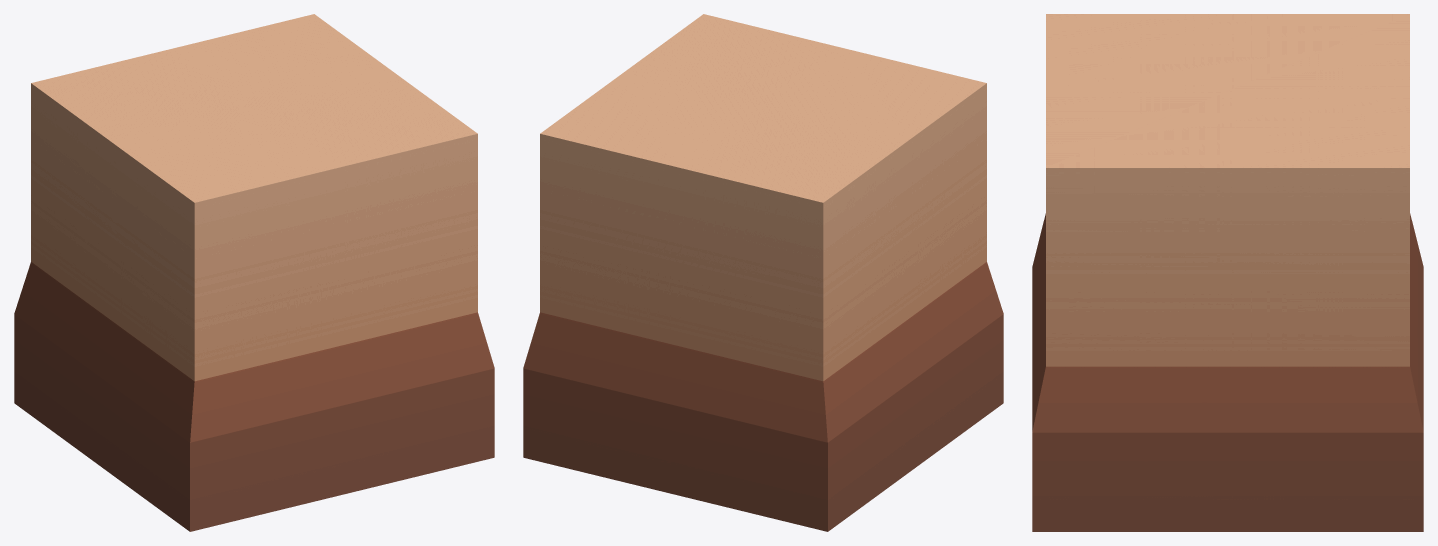
Rendered from tower-square-base.glb.
3 views of the same model, side by side, from view 1: azimuth 30°, elevation 25°; view 2: azimuth 150°, elevation 25°; view 3: azimuth 270°, elevation 25° (orthographic). The views are drawn at different scales.
Parts seen in each view (by area): view 1: tower-square-base; view 2: tower-square-base; view 3: tower-square-base.
Boxes of the visible parts, x1=… form: tower-square-base: x1=14, y1=14, x2=494, y2=531; tower-square-base: x1=523, y1=14, x2=1003, y2=531; tower-square-base: x1=1032, y1=14, x2=1423, y2=531.
Size of the model in its own units: 3 by 3.03 by 3.
Materials: 1 (1 with a texture image).
